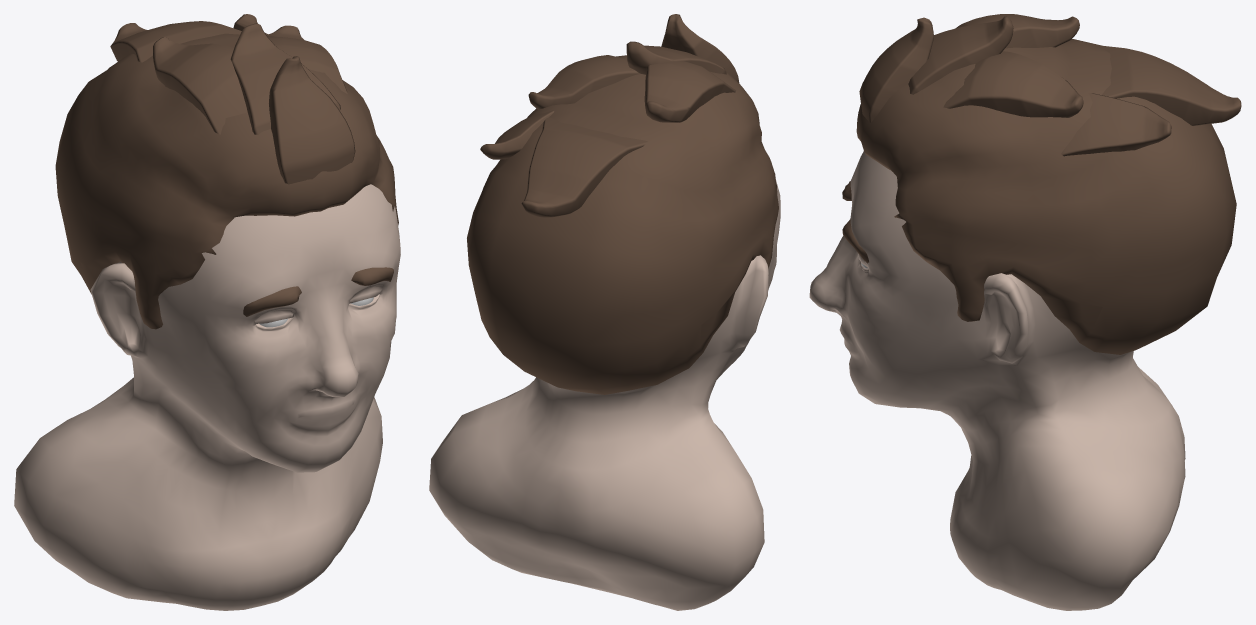
The model's file is Character Bust v2.fbx.
The picture shows the model from 3 angles, left to right: view 1: azimuth 30°, elevation 25°; view 2: azimuth 150°, elevation 25°; view 3: azimuth 270°, elevation 25°; orthographic projection. The views are drawn at different scales.
Parts seen in each view (by area): view 1: polySurface35, polySurface40, polySurface41, polySurface36, polySurface37, polySurface39, polySurface42, polySurface30; view 2: polySurface40, polySurface35, polySurface39, polySurface36, polySurface42, polySurface41, polySurface37, polySurface38; view 3: polySurface35, polySurface40, polySurface42, polySurface39, polySurface38, polySurface37, polySurface41, polySurface36.
Boxes of the visible parts, x1,y1,x2,y2 form: polySurface35: (14, 184, 400, 610); polySurface40: (55, 33, 398, 329); polySurface41: (269, 56, 355, 184); polySurface36: (153, 37, 247, 134); polySurface37: (230, 23, 340, 134); polySurface39: (110, 21, 241, 62); polySurface42: (266, 25, 347, 93); polySurface30: (243, 267, 393, 316); polySurface40: (467, 55, 778, 394); polySurface35: (429, 179, 780, 610); polySurface39: (521, 117, 647, 217); polySurface36: (644, 61, 735, 122); polySurface42: (528, 55, 639, 109); polySurface41: (661, 14, 739, 82); polySurface37: (626, 41, 726, 74); polySurface38: (480, 110, 554, 159); polySurface35: (809, 151, 1185, 610); polySurface40: (856, 39, 1236, 354); polySurface42: (943, 51, 1083, 117); polySurface39: (1100, 45, 1241, 125); polySurface38: (1061, 93, 1171, 156); polySurface37: (908, 16, 1013, 94); polySurface41: (859, 17, 933, 122); polySurface36: (955, 14, 1079, 48).
Size of the model in its own units: 143 by 229 by 160.
